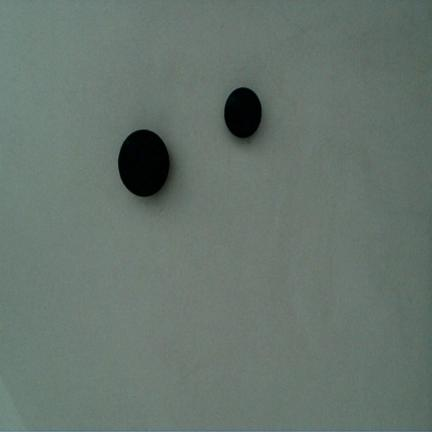Esfera: (118, 130, 169, 196), (224, 87, 263, 139)
